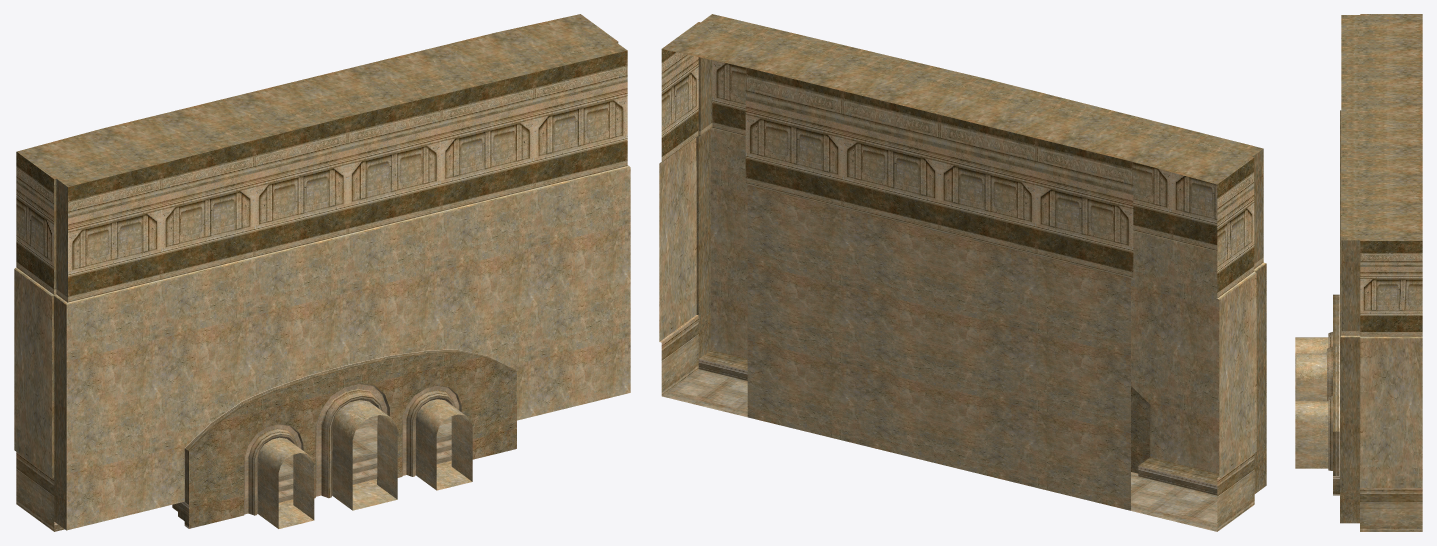
The model's file is mun_tato_capitol_s01_r1_entrance1_r1_entrance.fbx.
3 views of the same model, side by side, from view 1: azimuth 30°, elevation 25°; view 2: azimuth 150°, elevation 25°; view 3: azimuth 270°, elevation 25° (orthographic). The views are drawn at different scales.
Parts seen in each view (by area): view 1: mesh_node; view 2: mesh_node; view 3: mesh_node.
Boxes of the visible parts, x1,y1,x2,y2 form: mesh_node: (14,14,630,531); mesh_node: (659,14,1266,531); mesh_node: (1295,14,1422,531).
Size of the model in its own units: 26 by 16.1 by 6.1.
